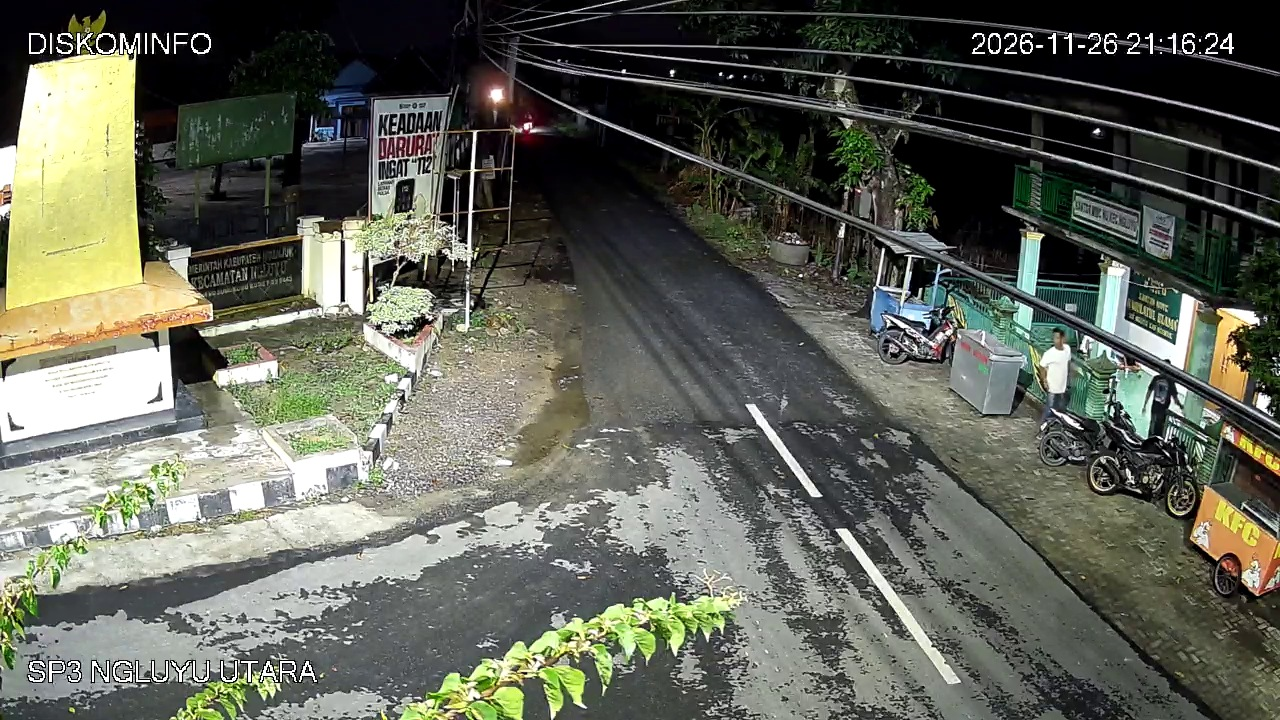Gerobak: (1189, 423, 1280, 602)
